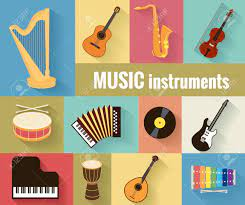Piano: (8, 153, 66, 202)
Saxophone: (134, 1, 174, 65)
Violin: (201, 9, 245, 82)
